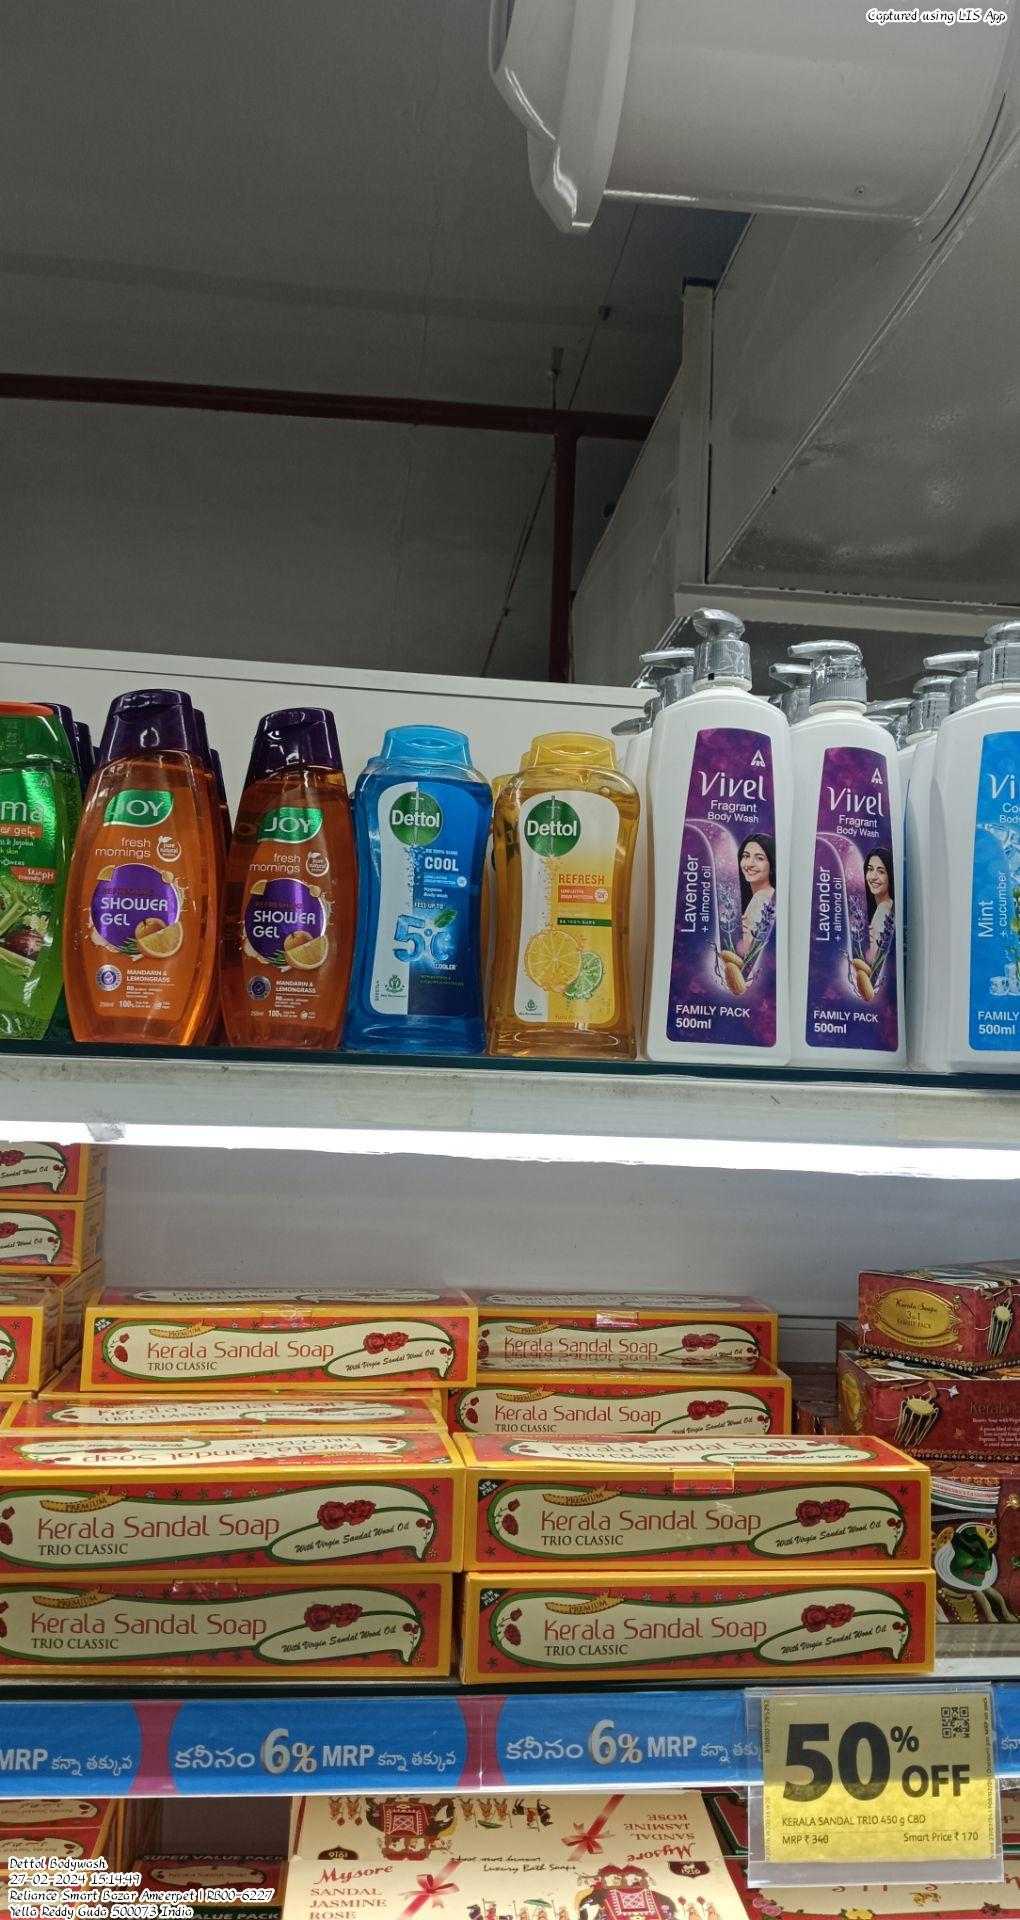Dettol_Bodywash_Cool: (357, 717, 493, 1054)
Dettol_Bodywash_Refresh: (500, 731, 650, 1067)
Fiama_Shower_Gel_Lemongrass_and_Jojoba_250ML: (0, 695, 60, 1045)
Joy_Shower_Gel_Mandarin_and_Lemongrass_250ML: (75, 683, 207, 1051), (232, 701, 347, 1050)
